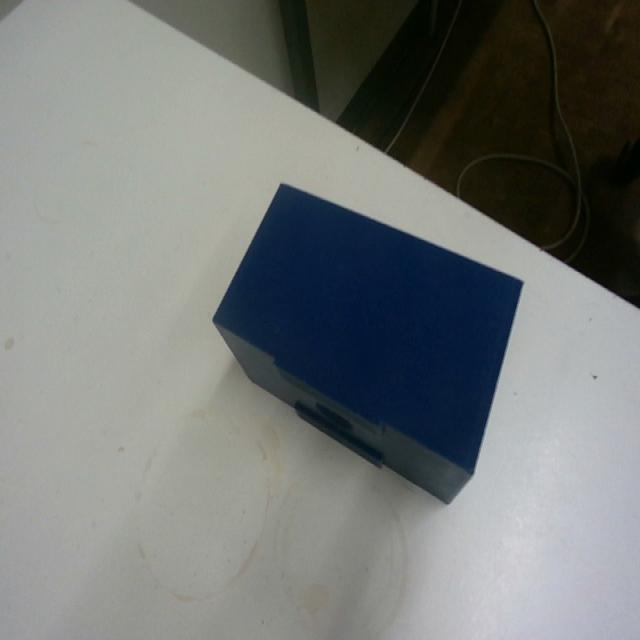Blue Cuboid: (210, 177, 525, 507)
